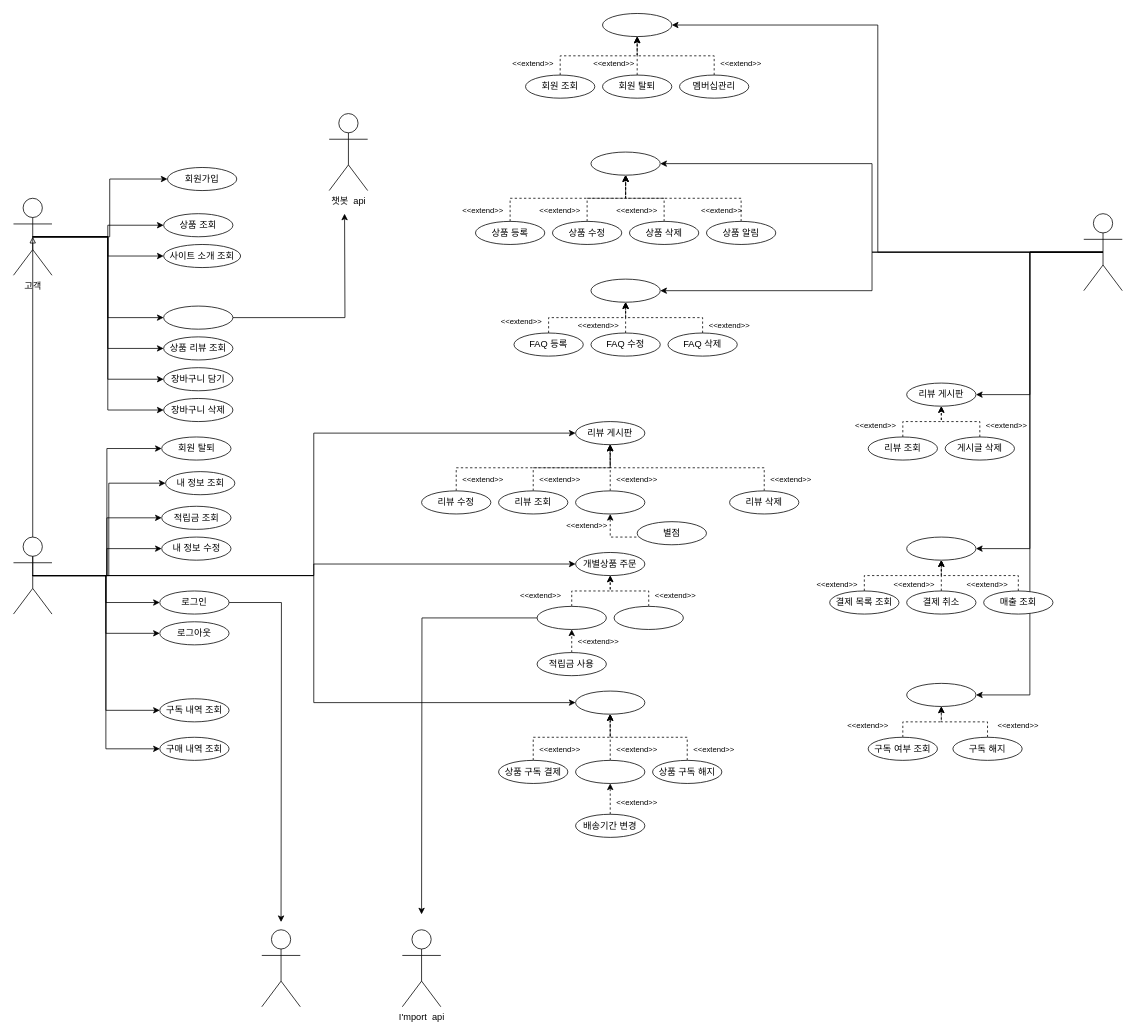
The diagram is 1136 pixels wide and 1036 high, and some of its shapes have lost their labels. The shapes that lost their labels are listed below. From the top down, each one's centre as x and y in pixels, then its label:
the point at 637,25: 회원 관리
the point at 625,163: 상품 관리
the point at 1102,252: 관리자
the point at 625,290: FAQ
the point at 198,317: FAQ 조회
the point at 610,502: 리뷰 작성
the point at 941,548: 결제&매출 관리
the point at 32,575: 회원
the point at 571,617: 주문 결제
the point at 648,617: 주문 취소
the point at 610,702: 구독 서비스
the point at 941,694: 구독 관리
the point at 610,771: 상품 구독 변경
the point at 280,968: 카카오 로그인 api
